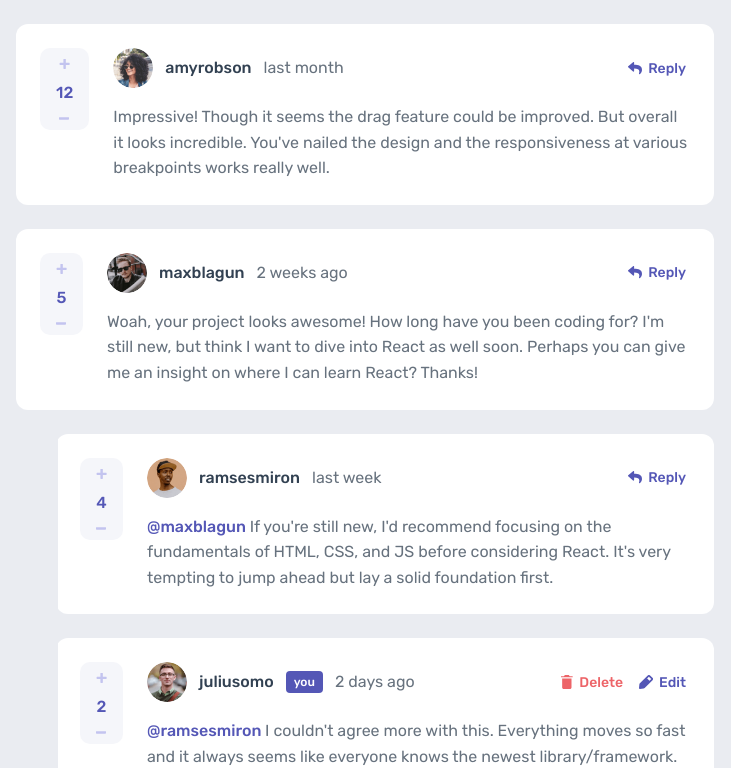
Test: App integration › reply to a reply still goes under the top-level parent
Click the button "Reply" in the row of "last week": (657, 478) [624,463,690,492]
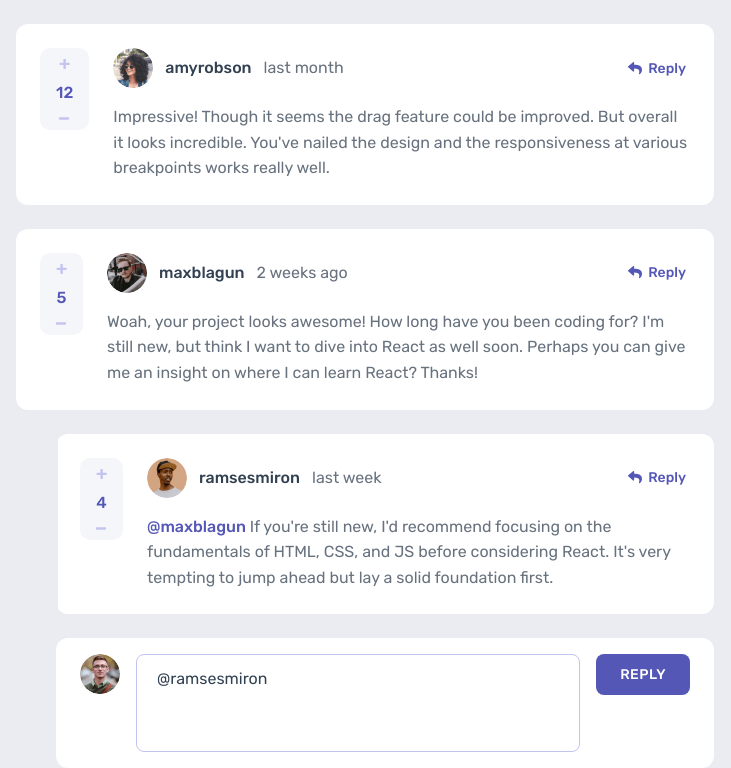
Replace the text in the text box with "@ramsesmiron reply to reply": (358, 703) [136,654,580,752]
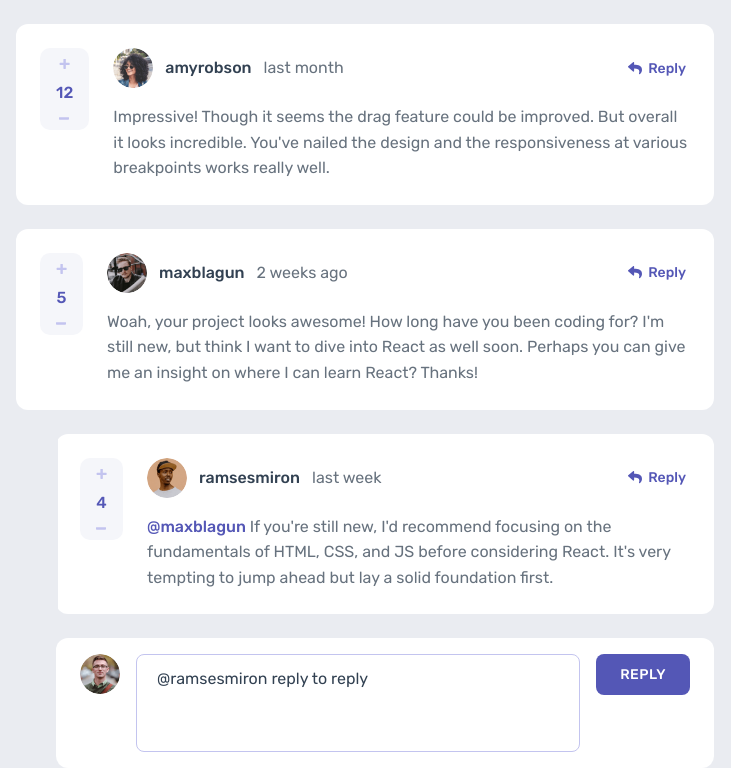
Click the button "REPLY": (643, 675) [596,654,690,695]
(page scrolled)
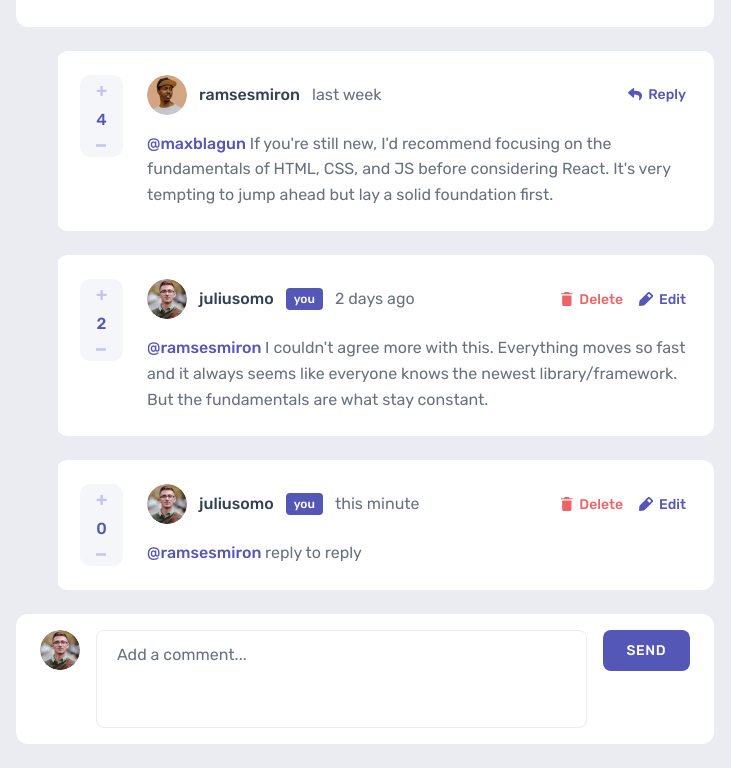
Expected: the text "@ramsesmiron reply to reply" is shown, [147,543,362,562]
